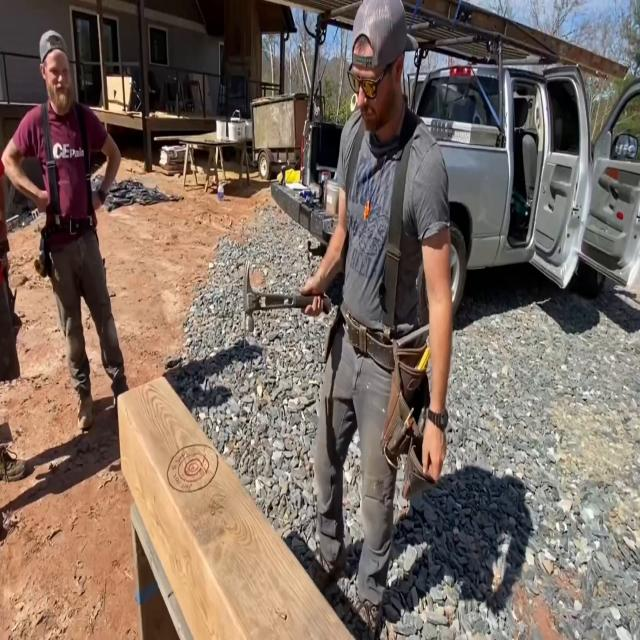hammer: (245, 261, 330, 332)
